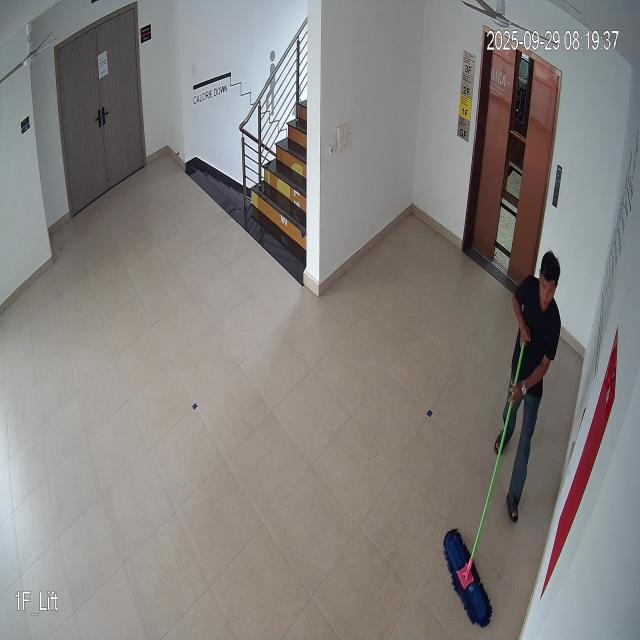face: (537, 251, 560, 310)
